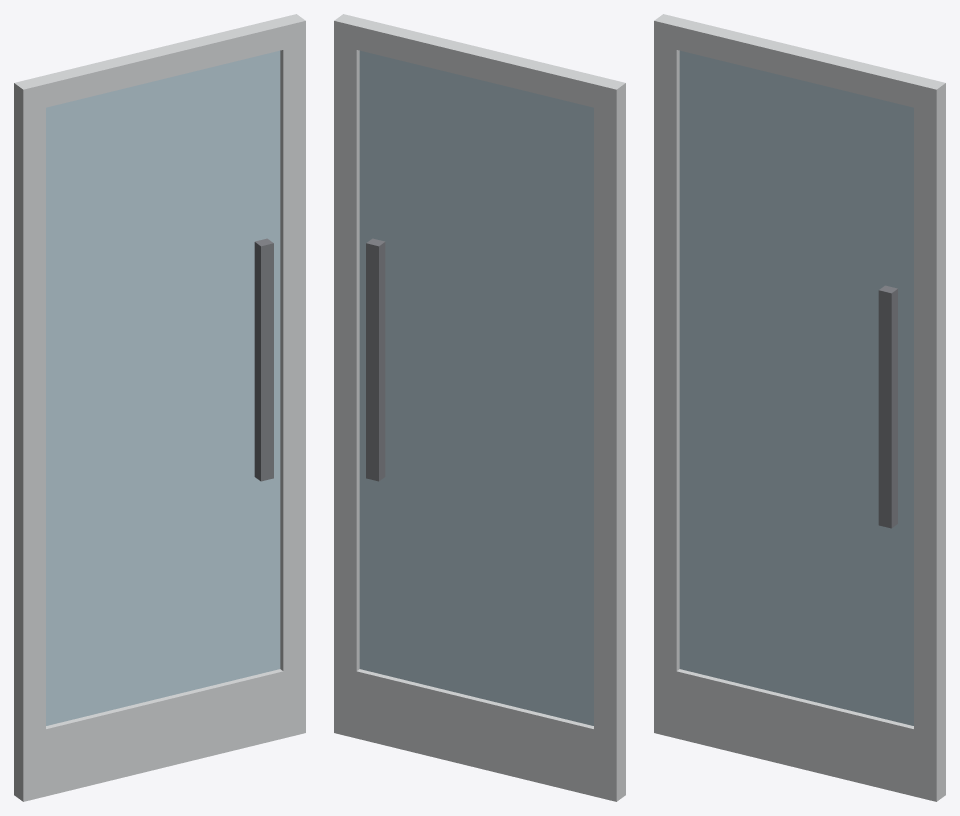
File: door_leaf_glass.glb
3 renders of one model, left to right at view 1: azimuth 30°, elevation 25°; view 2: azimuth 150°, elevation 25°; view 3: azimuth 330°, elevation 25°, orthographic.
Parts seen in each view (by area): view 1: door_leaf_glass_glass, door_leaf_glass_alu, door_leaf_glass_dark; view 2: door_leaf_glass_glass, door_leaf_glass_alu, door_leaf_glass_dark; view 3: door_leaf_glass_glass, door_leaf_glass_alu, door_leaf_glass_dark.
Boxes of the visible parts, x1=… form: door_leaf_glass_glass: x1=46, y1=50, x2=280, y2=725; door_leaf_glass_alu: x1=14, y1=14, x2=305, y2=801; door_leaf_glass_dark: x1=254, y1=238, x2=273, y2=481; door_leaf_glass_glass: x1=359, y1=50, x2=593, y2=725; door_leaf_glass_alu: x1=334, y1=14, x2=625, y2=801; door_leaf_glass_dark: x1=366, y1=238, x2=385, y2=481; door_leaf_glass_glass: x1=679, y1=50, x2=913, y2=725; door_leaf_glass_alu: x1=654, y1=14, x2=945, y2=801; door_leaf_glass_dark: x1=878, y1=285, x2=897, y2=528.
Size of the model in its own units: 0.88 by 2.12 by 0.12.
